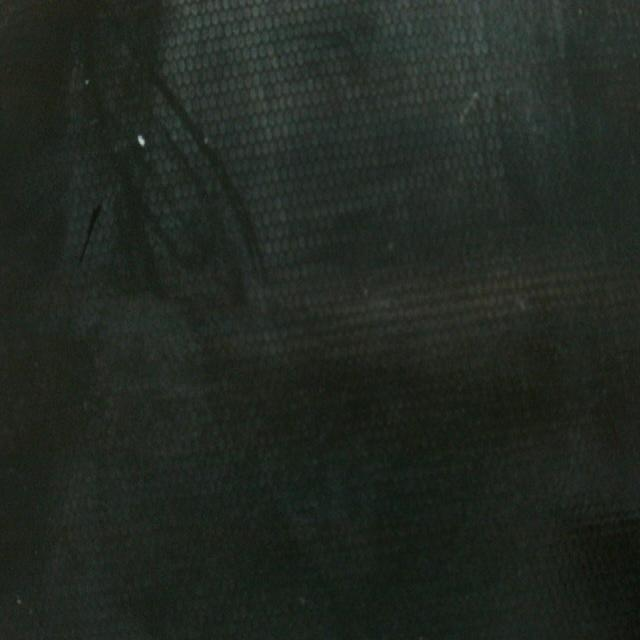very small scratch: (130, 128, 152, 154)
